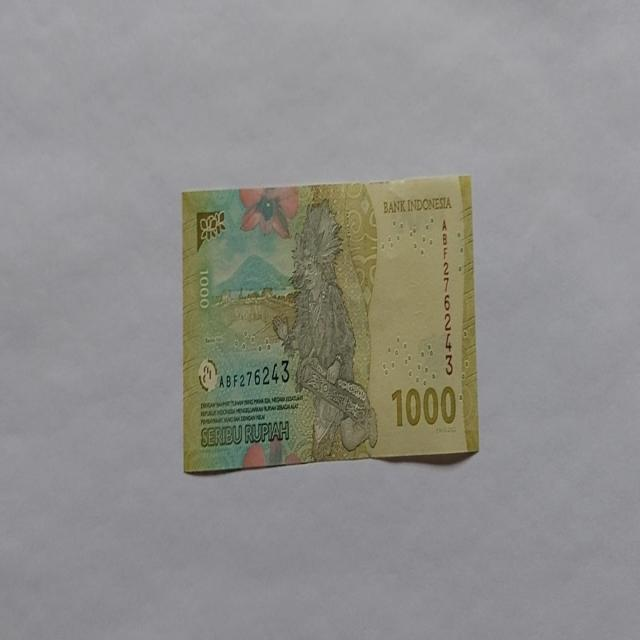seribu rupiah kertas: (180, 173, 480, 474)
